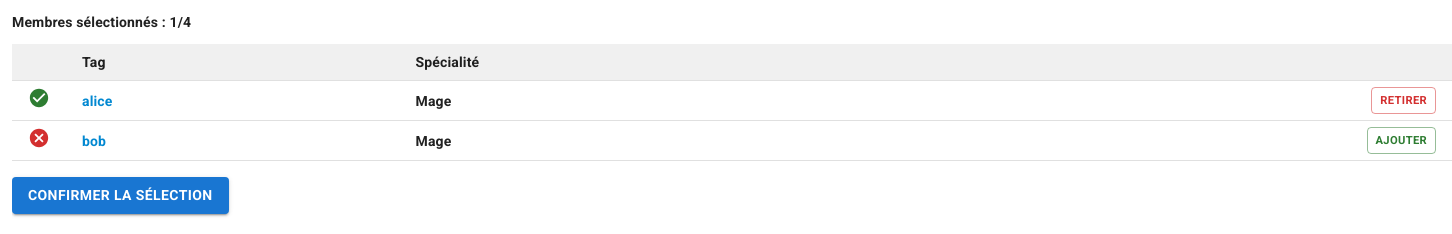
Scenario: SelectionMemberList › togglePending removes member from pending set when Retirer is clicked
Click the button "Retirer" at coordinates (1404, 100), box [1371,87,1436,114]
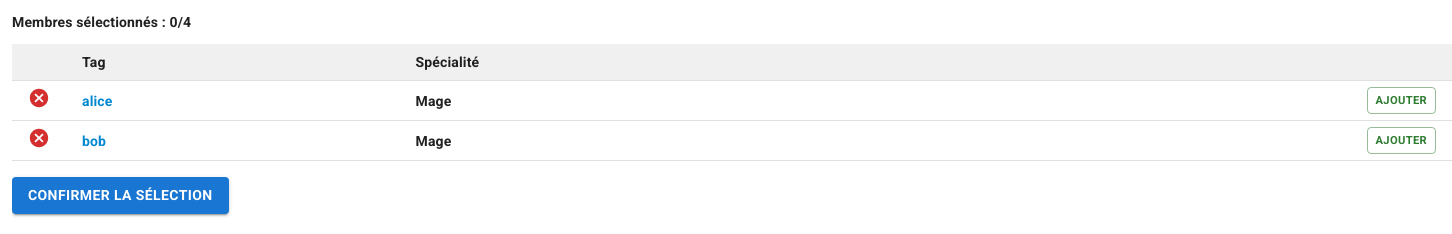
Check: the text "Membres sélectionnés : 0/4" is shown, box [12,14,191,30]
